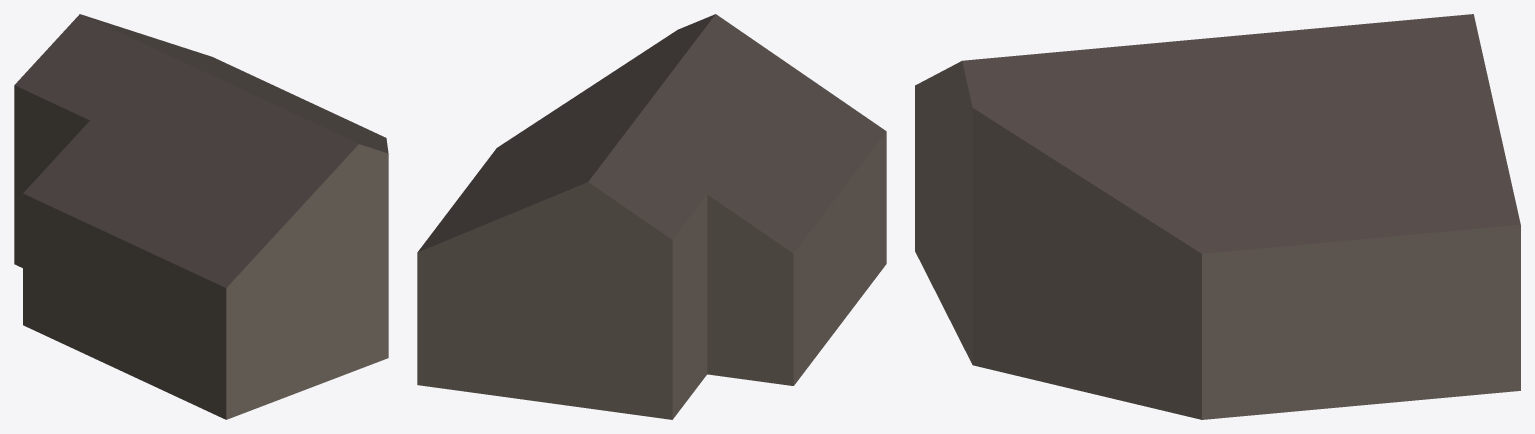
3 renders of one model, left to right at view 1: azimuth 30°, elevation 25°; view 2: azimuth 150°, elevation 25°; view 3: azimuth 270°, elevation 25°, orthographic. The views are drawn at different scales.
Visible parts, largest first — view 1: HP-w1200750005; view 2: HP-w1200750005; view 3: HP-w1200750005.
Part boxes in pixels (box(x1,y1,x2,y2)): HP-w1200750005: box(14, 14, 388, 419); HP-w1200750005: box(417, 14, 886, 419); HP-w1200750005: box(915, 14, 1520, 419).
Bounding box in the file's own units: 15.7 × 10.26 × 19.85.
